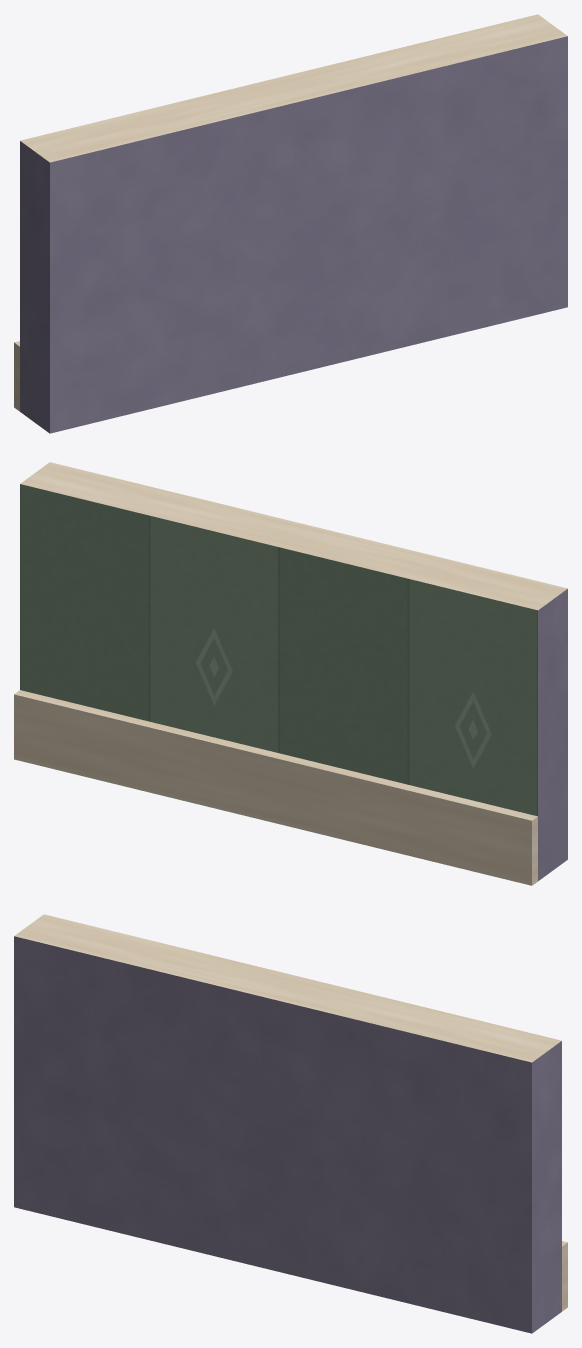
File: SM_Wall_Low_1x05.fbx
3 views of the same model, one above another, from view 1: azimuth 30°, elevation 25°; view 2: azimuth 150°, elevation 25°; view 3: azimuth 330°, elevation 25° (orthographic).
Parts seen in each view (by area): view 1: SM_Wall_Low_1x05; view 2: SM_Wall_Low_1x05; view 3: SM_Wall_Low_1x05.
Boxes of the visible parts, left/top/right/bottom form: SM_Wall_Low_1x05: left=14, top=14, right=567, bottom=433; SM_Wall_Low_1x05: left=14, top=462, right=567, bottom=885; SM_Wall_Low_1x05: left=14, top=914, right=567, bottom=1333.
Size of what is drawn, in the model's own units: 1 by 0.5 by 0.12.
Materials: 3 (3 with a texture image).
